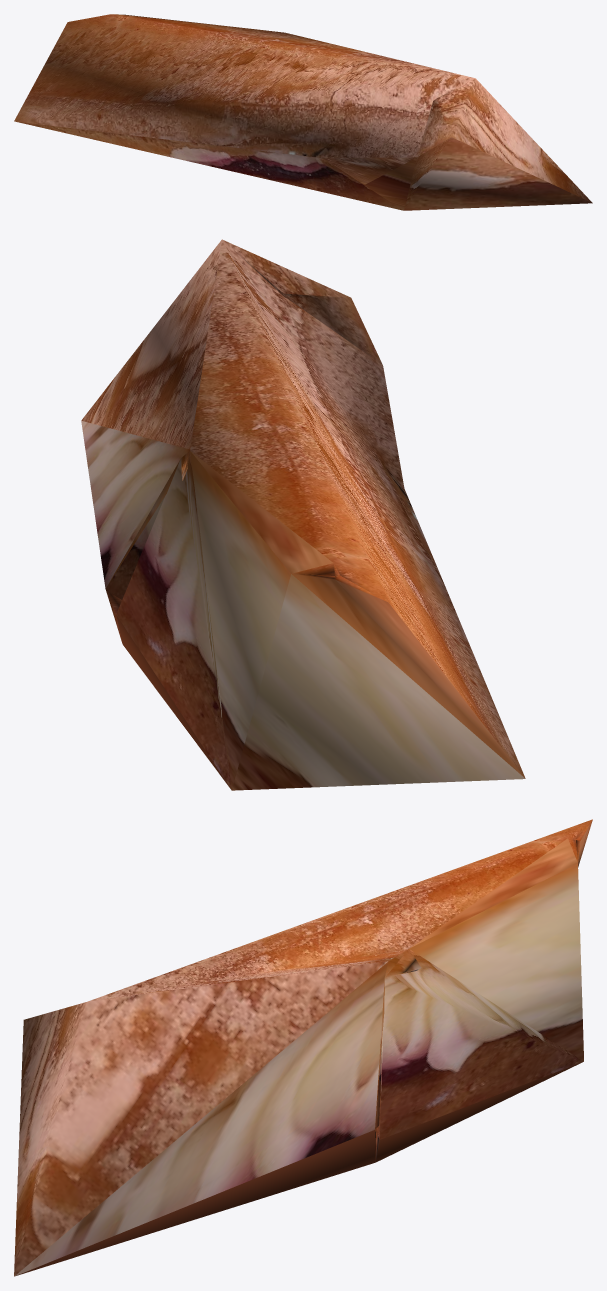
File: eclaire_114.obj
3 renders of one model, top to bottom at view 1: azimuth 30°, elevation 25°; view 2: azimuth 150°, elevation 25°; view 3: azimuth 270°, elevation 25°, orthographic. The views are drawn at different scales.
Size of the model in its own units: 91.64 by 29.1 by 73.63.
1 material, 1 textured.
